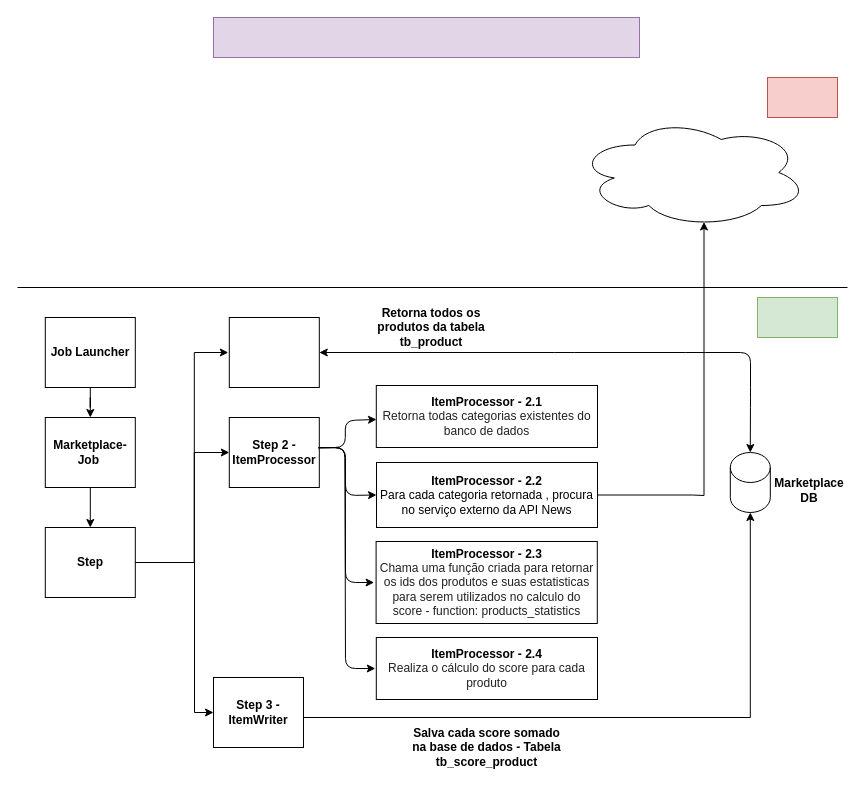
This 866x786 diagram has some shape labels left out. The shapes that lost their labels are listed below. From the top down, each one's centre as x and y in pixels, then its label:
At (426,37): "Arquitetura do JOB - Utilizando Spring Batch como estratégia de implementação".
At (802,97): "External Infra".
At (692,172): "API NEWS - https://newsapi.org/".
At (797,317): "Marketplace Infra".
At (273,352): "Step 1 - ItemReader".
